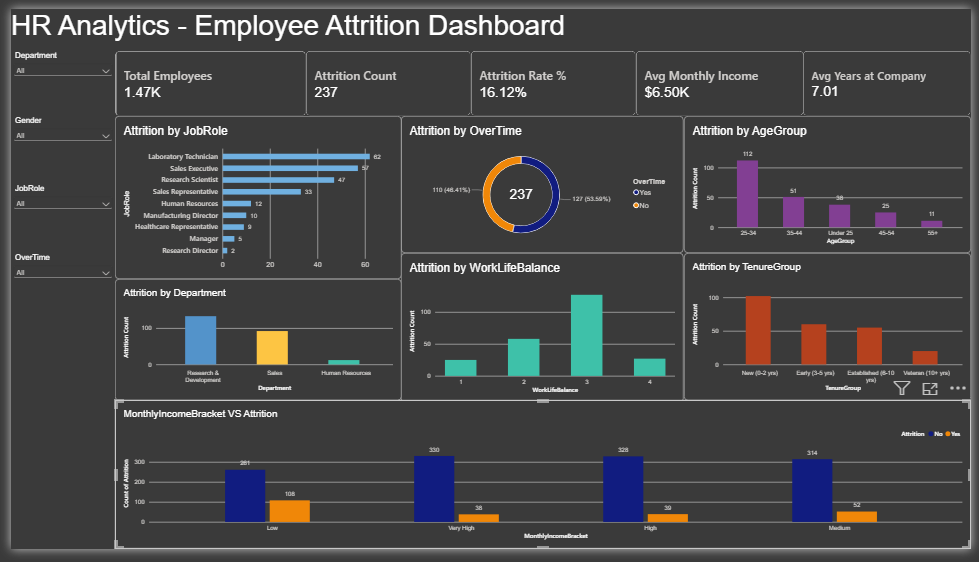

What the dashboard file says about the page in this screenshot:
{"tool":"powerbi","page":{"name":"Page 1","canvas":[1920,1080],"ordinal":0},"visuals":[{"type":"cardVisual","fields":{"Data":["IBM_HR_Attrition_Enhanced.Total Employees"]},"box":[208.2,84.8,381.7,129.2],"z":0},{"type":"cardVisual","fields":{"Data":["IBM_HR_Attrition_Enhanced.Attrition Count"]},"box":[589.9,84.8,329.6,129.2],"z":1000},{"type":"cardVisual","fields":{"Data":["IBM_HR_Attrition_Enhanced.Attrition Rate %"]},"box":[919.5,84.8,329.6,129.2],"z":2000},{"type":"cardVisual","fields":{"Data":["IBM_HR_Attrition_Enhanced.Avg Monthly Income"]},"box":[1249.2,84.8,335.4,129.2],"z":3000},{"type":"cardVisual","fields":{"Data":["IBM_HR_Attrition_Enhanced.Avg Years at Company"]},"box":[1584.6,84.8,335.4,129.2],"z":4000},{"type":"columnChart","title":"Attrition by Department","fields":{"Category":["IBM_HR_Attrition_Enhanced.Department"],"Series":["IBM_HR_Attrition_Enhanced.Department"],"Y":["IBM_HR_Attrition_Enhanced.Attrition Count"]},"box":[208.2,539.8,572.5,242.9],"z":5000},{"type":"donutChart","title":"Attrition by OverTime","fields":{"Category":["IBM_HR_Attrition_Enhanced.OverTime"],"Series":["IBM_HR_Attrition_Enhanced.OverTime"],"Y":["IBM_HR_Attrition_Enhanced.Attrition Count"]},"box":[780.7,214,564.8,273.7],"z":6000},{"type":"columnChart","title":"Attrition by AgeGroup","fields":{"Category":["IBM_HR_Attrition_Enhanced.AgeGroup"],"Y":["IBM_HR_Attrition_Enhanced.Attrition Count"]},"box":[1345.5,214,574.5,273.7],"z":7000},{"type":"barChart","title":"Attrition by JobRole","fields":{"Category":["IBM_HR_Attrition_Enhanced.JobRole"],"Y":["IBM_HR_Attrition_Enhanced.Attrition Count"]},"box":[208.2,214,572.5,325.8],"z":8000},{"type":"columnChart","title":"Attrition by WorkLifeBalance","fields":{"Category":["IBM_HR_Attrition_Enhanced.WorkLifeBalance"],"Y":["IBM_HR_Attrition_Enhanced.Attrition Count"]},"box":[780.7,487.7,564.8,298.8],"z":9000},{"type":"columnChart","title":"Attrition by TenureGroup","fields":{"Category":["IBM_HR_Attrition_Enhanced.TenureGroup"],"Y":["IBM_HR_Attrition_Enhanced.Attrition Count"]},"box":[1345.5,487.7,574.5,294.9],"z":10000},{"type":"clusteredColumnChart","title":"MonthlyIncomeBracket VS Attrition","fields":{"Category":["IBM_HR_Attrition_Enhanced.MonthlyIncomeBracket"],"Series":["IBM_HR_Attrition_Enhanced.Attrition"],"Y":["CountNonNull(IBM_HR_Attrition_Enhanced.Attrition)"]},"box":[208.2,782.7,1711.8,296.9],"z":11000},{"type":"slicer","fields":{"Values":["IBM_HR_Attrition_Enhanced.Department"]},"box":[0,84.8,208.2,129.2],"z":12000},{"type":"slicer","fields":{"Values":["IBM_HR_Attrition_Enhanced.Gender"]},"box":[0,214,208.2,136.9],"z":13000},{"type":"slicer","fields":{"Values":["IBM_HR_Attrition_Enhanced.JobRole"]},"box":[0,350.8,208.2,136.9],"z":14000},{"type":"slicer","fields":{"Values":["IBM_HR_Attrition_Enhanced.OverTime"]},"box":[0,487.7,208.2,136.9],"z":15000},{"type":"textbox","box":[0,0,1416.9,84.8],"z":16000}]}

Visuals, with their boxes in screenshot pixels (x1, y1, x2, y2), scaled from the page's 1920x1080 canvas onto the 979x562 screenshot:
cardVisual - IBM_HR_Attrition_Enhanced.Total Employees: <region>106, 44, 301, 111</region>
cardVisual - IBM_HR_Attrition_Enhanced.Attrition Count: <region>301, 44, 469, 111</region>
cardVisual - IBM_HR_Attrition_Enhanced.Attrition Rate %: <region>469, 44, 637, 111</region>
cardVisual - IBM_HR_Attrition_Enhanced.Avg Monthly Income: <region>637, 44, 808, 111</region>
cardVisual - IBM_HR_Attrition_Enhanced.Avg Years at Company: <region>808, 44, 978, 111</region>
"Attrition by Department" columnChart: <region>106, 281, 398, 407</region>
"Attrition by OverTime" donutChart: <region>398, 111, 686, 254</region>
"Attrition by AgeGroup" columnChart: <region>686, 111, 978, 254</region>
"Attrition by JobRole" barChart: <region>106, 111, 398, 281</region>
"Attrition by WorkLifeBalance" columnChart: <region>398, 254, 686, 409</region>
"Attrition by TenureGroup" columnChart: <region>686, 254, 978, 407</region>
"MonthlyIncomeBracket VS Attrition" clusteredColumnChart: <region>106, 407, 978, 561</region>
slicer - IBM_HR_Attrition_Enhanced.Department: <region>0, 44, 106, 111</region>
slicer - IBM_HR_Attrition_Enhanced.Gender: <region>0, 111, 106, 183</region>
slicer - IBM_HR_Attrition_Enhanced.JobRole: <region>0, 183, 106, 254</region>
slicer - IBM_HR_Attrition_Enhanced.OverTime: <region>0, 254, 106, 325</region>
textbox: <region>0, 0, 722, 44</region>
